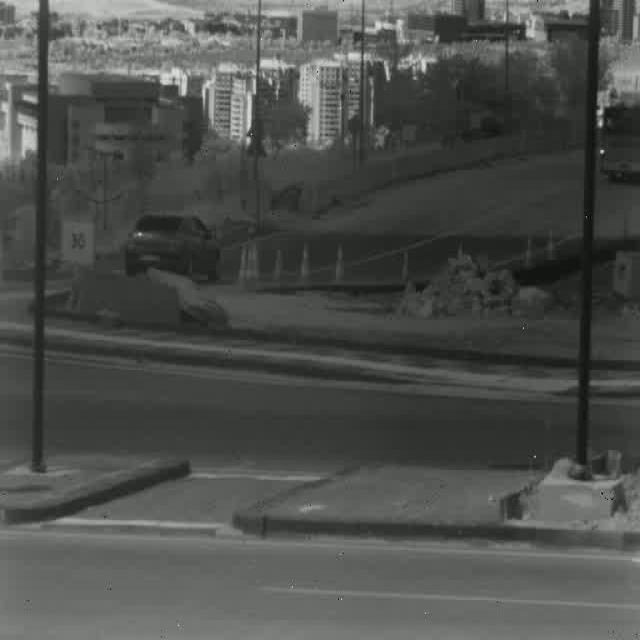Bus: (598, 94, 640, 178)
Car: (123, 210, 220, 282)
